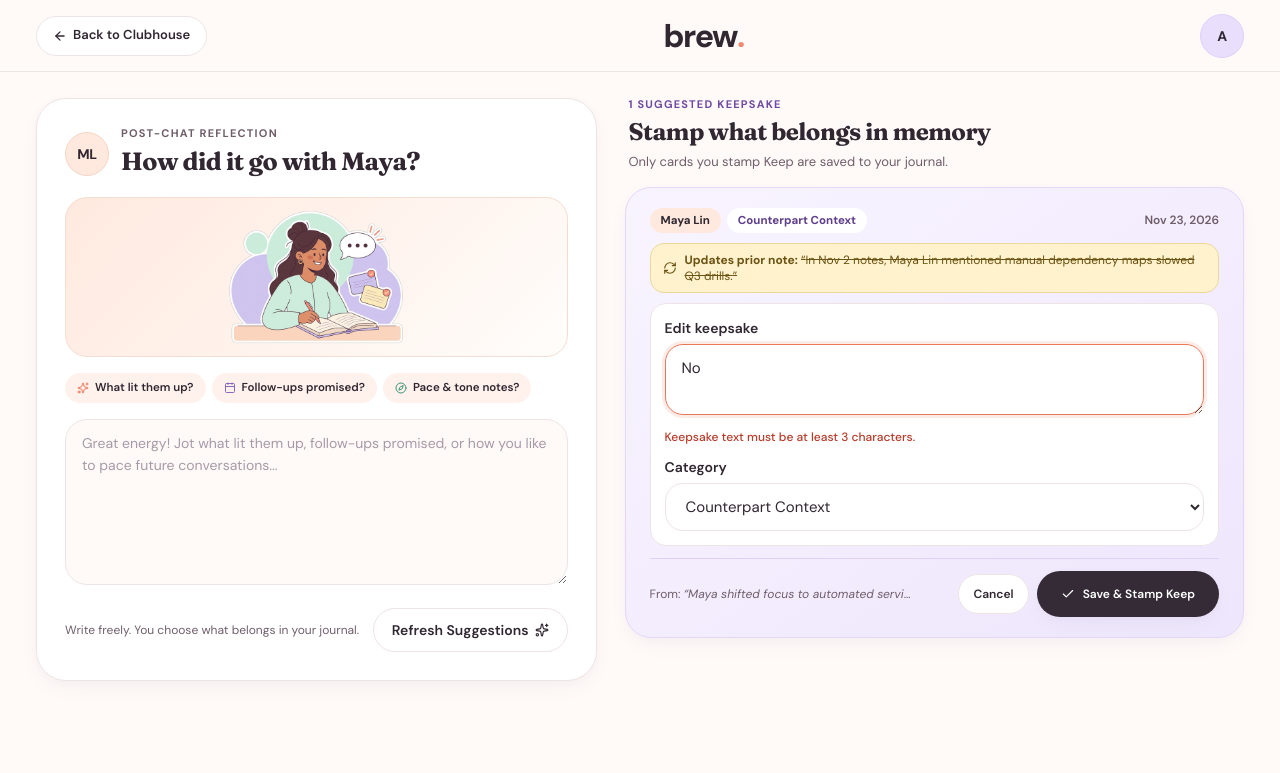
Test: Brew Test Pyramid: v2 Frontend Journeys, States, Memory Governance, and Revisions › 3. Memory approval & deletion: supersession stamp, Coaching Style folio, earlier-notes toggle, and cancel/confirm delete
Earlier steps of the test are not shown.
Later steps or results of the test are not shown.
Expected: the text "Keepsake text must be at least 3 characters." is shown, [664, 429, 915, 445]
Click the button "Cancel": point(994, 594) [958, 574, 1029, 614]
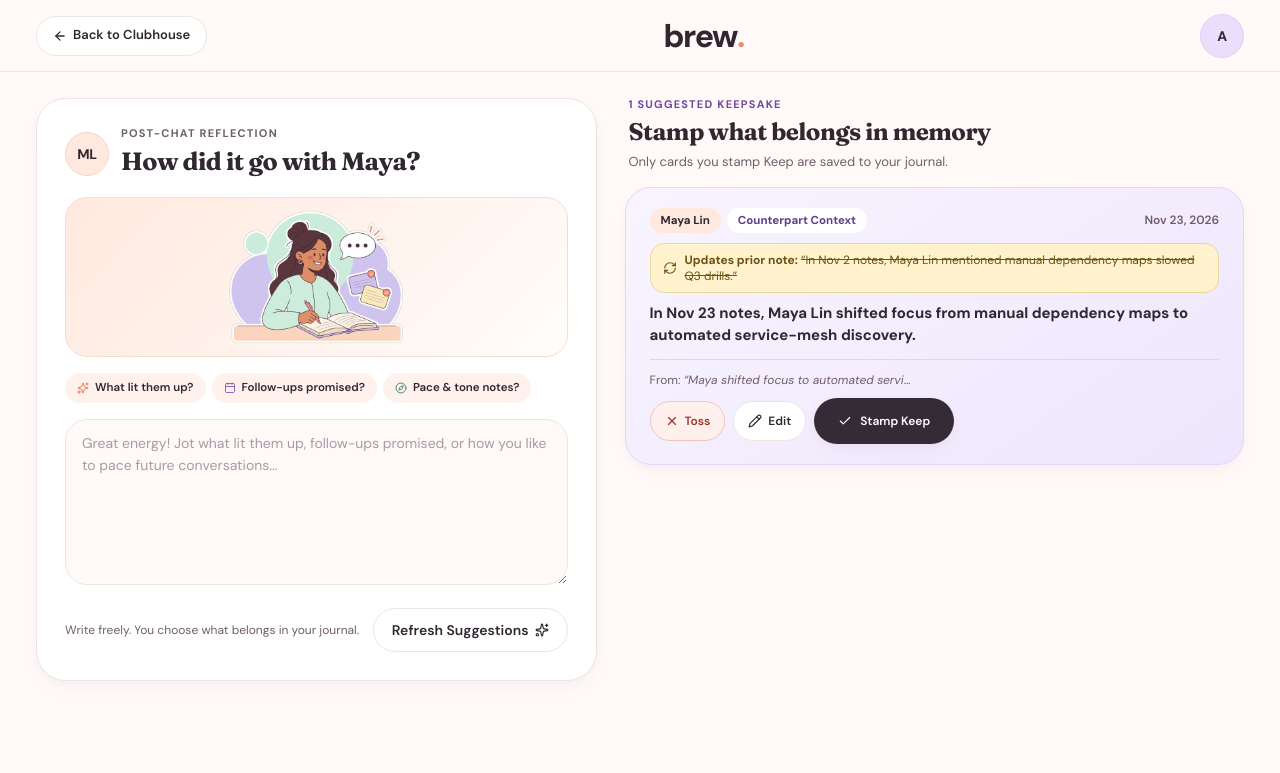
Click the button "Stamp Keep": point(884, 421) [814, 398, 954, 444]
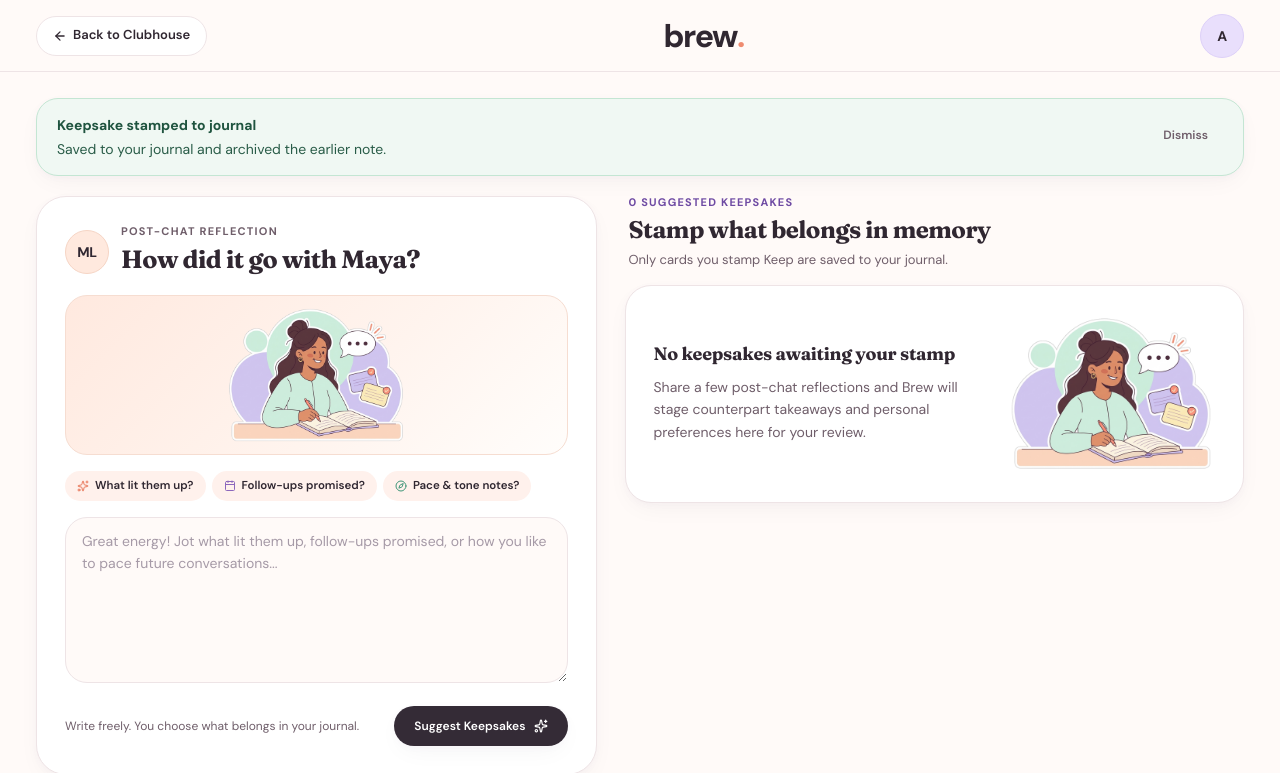
Now the text "Saved to your journal and archived the earlier note." is shown, box [57, 139, 386, 159]
Click the button "Back to Clubhouse": point(122, 36) [36, 16, 207, 56]
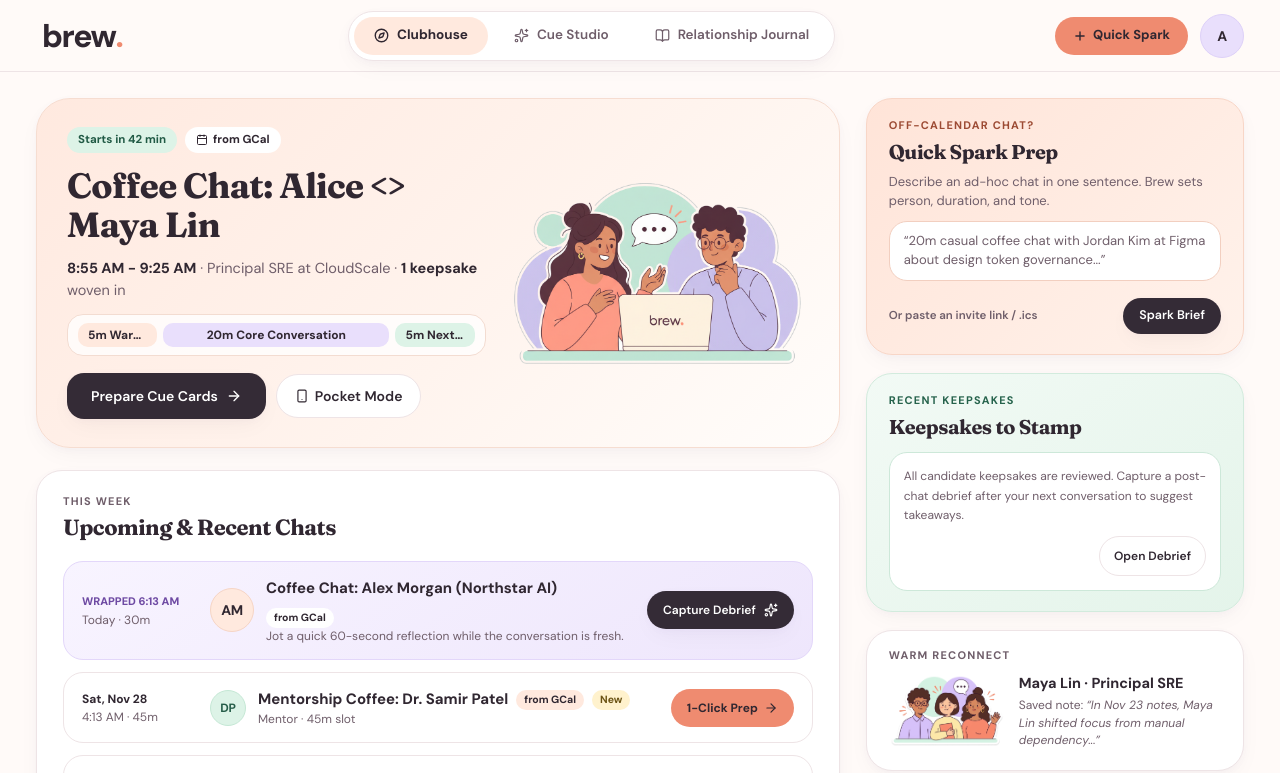
Click the button "Relationship Journal": point(732, 36) [635, 16, 829, 54]
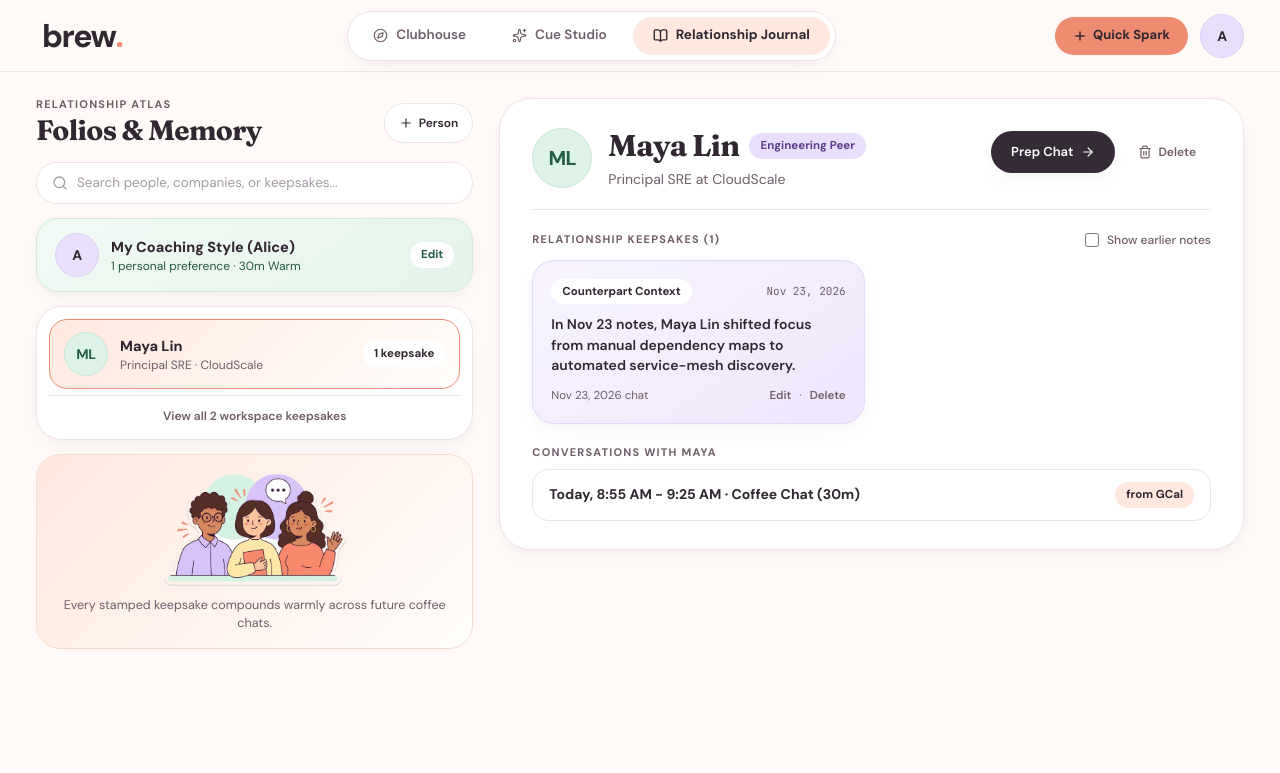
Expected: the text "In Nov 2 notes, Maya Lin mentioned manual dependency maps slowed Q3 drills." is not shown
Now the text "In Nov 23 notes, Maya Lin shifted focus from manual dependency maps to automated service-mesh discovery." is shown, box [551, 315, 812, 374]
Click the checkbox labelled "Show earlier notes": point(1092, 240) [1085, 232, 1099, 246]
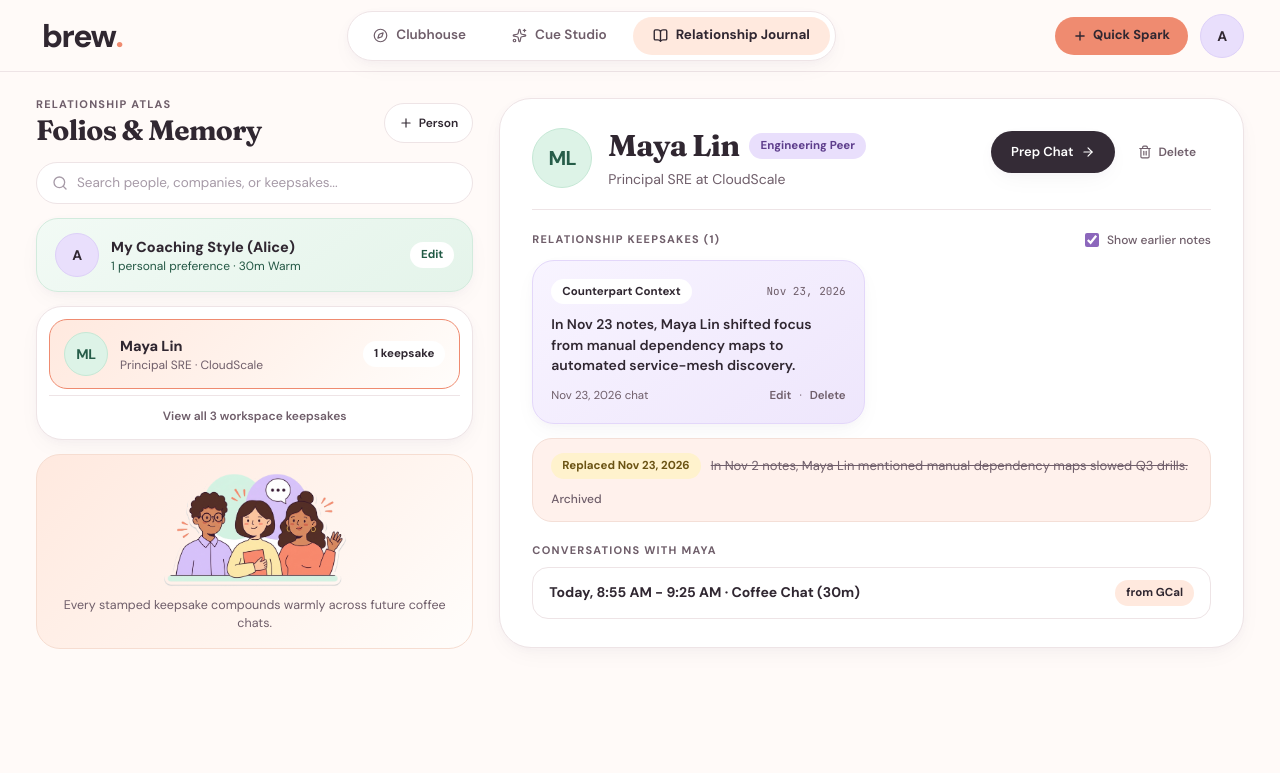
Now the text "In Nov 2 notes, Maya Lin mentioned manual dependency maps slowed Q3 drills." is shown, box [711, 456, 1188, 476]
Click the button "My Coaching Style (Alice)": point(255, 255) [36, 218, 473, 292]
(page scrolled)
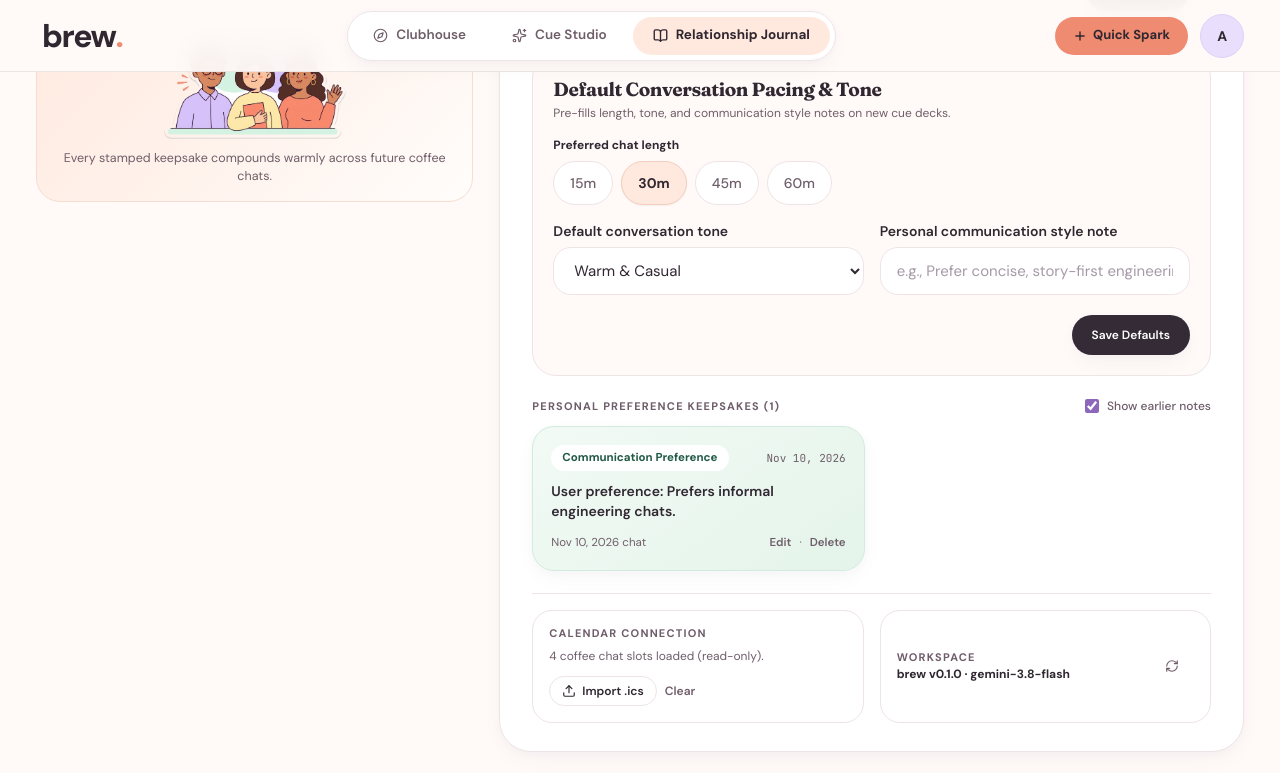
Now the text "User preference: Prefers informal engineering chats." is shown, box [551, 482, 774, 520]
